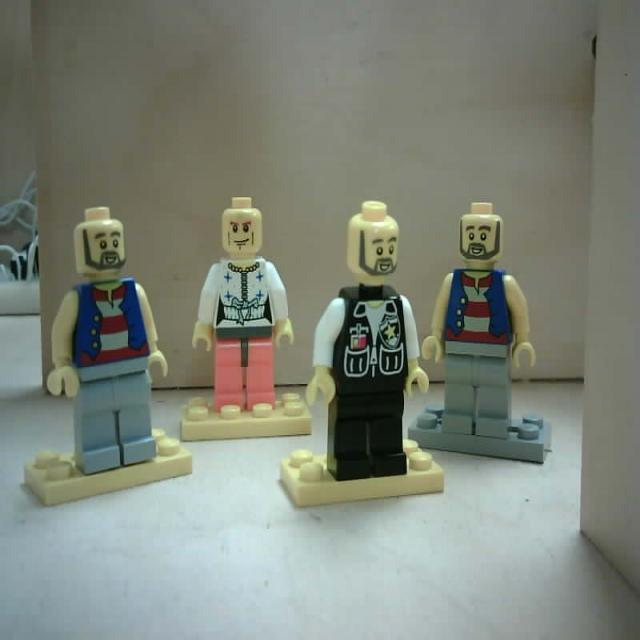Lego-People: (276, 196, 450, 524), (27, 203, 192, 513), (402, 201, 553, 469), (175, 198, 317, 444)
